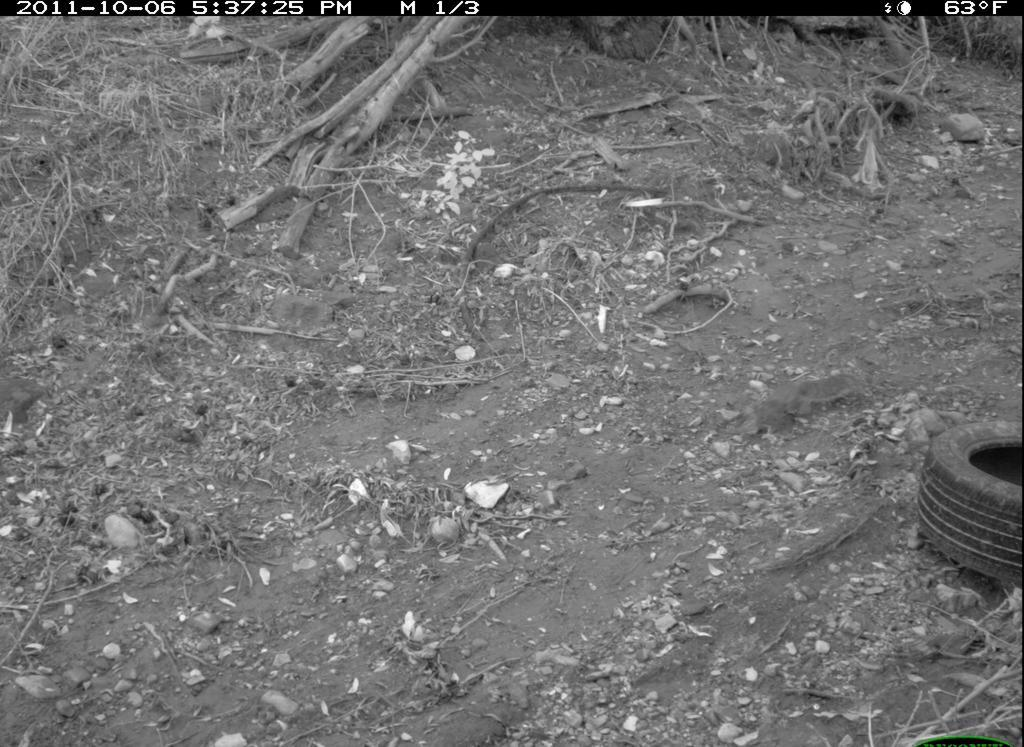squirrel: (712, 368, 881, 442)
